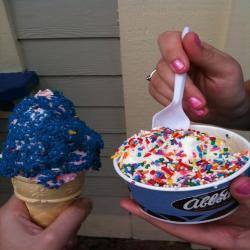icecream: (114, 116, 248, 205), (5, 87, 105, 192)
